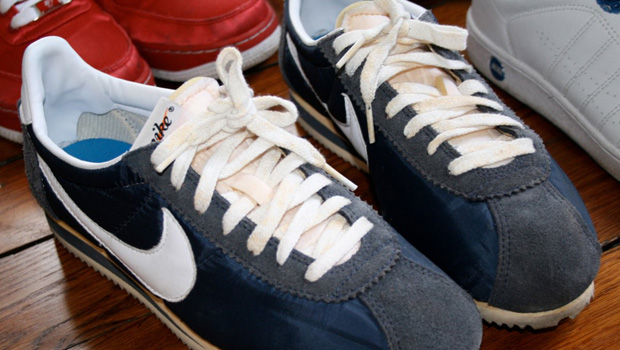nike: (44, 164, 201, 308)
